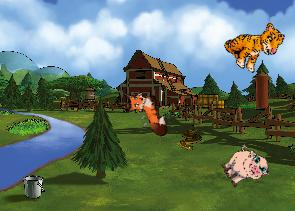fox: (120, 84, 170, 144)
pig: (217, 140, 272, 194)
tiger: (219, 9, 288, 79)
